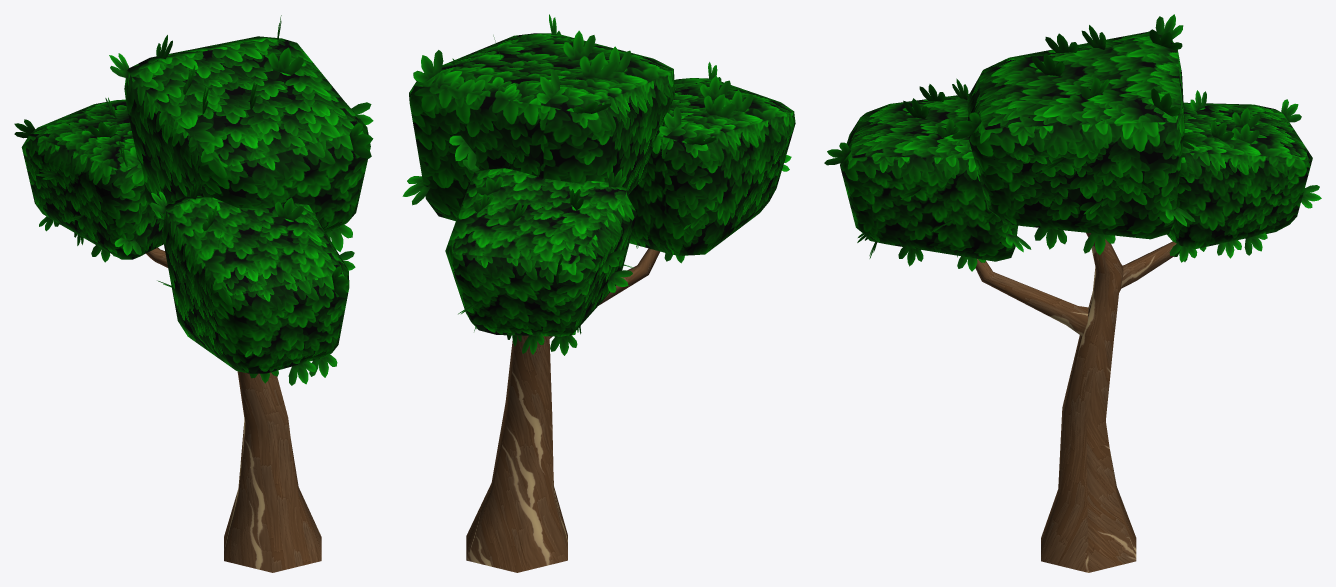
Rendered from Tree_1.fbx.
3 views of the same model, side by side, from view 1: azimuth 30°, elevation 25°; view 2: azimuth 150°, elevation 25°; view 3: azimuth 270°, elevation 25° (orthographic). The views are drawn at different scales.
Visible parts, largest first — view 1: polySurface1, polySurface36, polySurface39, polySurface2, polySurface22, polySurface3; view 2: polySurface1, polySurface39, polySurface36, polySurface2, polySurface24, polySurface62, polySurface64, polySurface17; view 3: polySurface1, polySurface2, polySurface36, polySurface39.
Boxes of the visible parts, x1,y1,x2,y2 form: polySurface1: (124,36,370,232); polySurface36: (162,196,349,373); polySurface39: (21,99,163,259); polySurface2: (146,247,321,572); polySurface22: (268,47,303,74); polySurface3: (349,122,373,158); polySurface1: (409,33,675,221); polySurface39: (445,168,637,336); polySurface36: (628,78,795,255); polySurface2: (466,248,659,572); polySurface24: (579,52,617,79); polySurface62: (563,30,595,60); polySurface64: (413,50,443,82); polySurface17: (449,135,476,169); polySurface1: (967,31,1184,239); polySurface2: (975,232,1176,572); polySurface36: (840,93,1017,261); polySurface39: (1167,102,1312,248).
Bounding box in the file's own units: 29.2 × 56.13 × 51.83.
